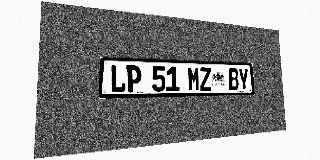1: (166, 66, 179, 92)
5: (152, 66, 166, 92)
B: (228, 68, 239, 90)
L: (110, 65, 126, 93)
M: (187, 67, 200, 91)
P: (126, 65, 141, 92)
Y: (238, 68, 249, 90)
Z: (200, 67, 212, 91)
